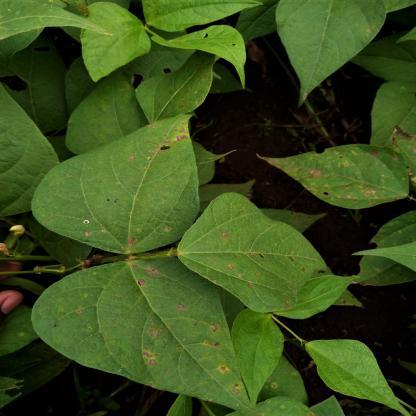Beans_Angular_LeafSpot: (38, 263, 258, 411), (33, 102, 197, 252), (186, 191, 316, 311), (253, 142, 410, 210)
